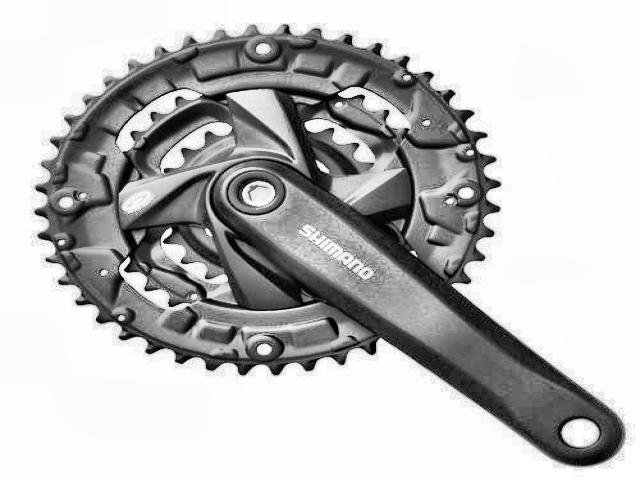cranks_set: (33, 24, 627, 468)
